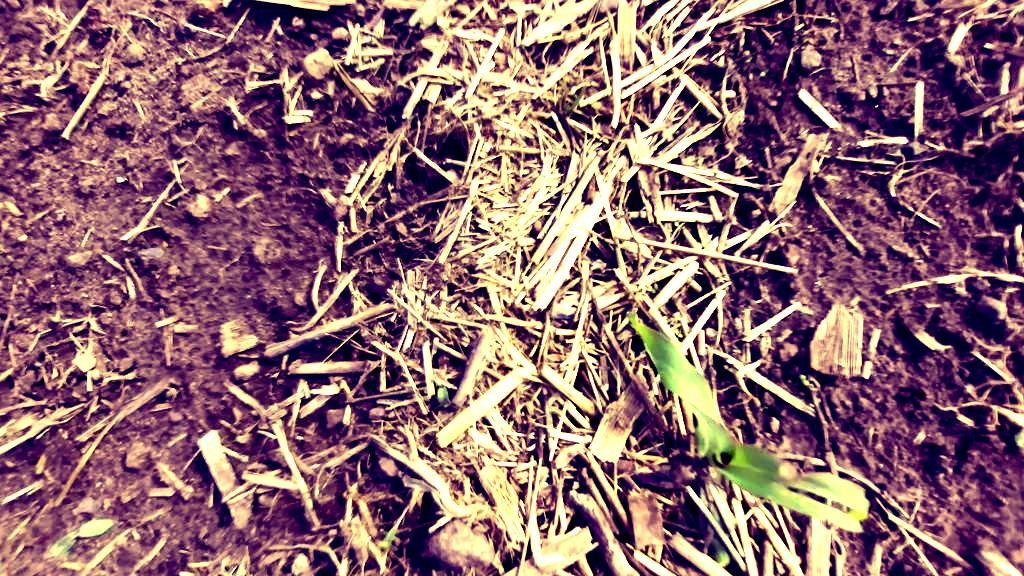BroWeed: (38, 509, 117, 566), (371, 519, 404, 554), (434, 377, 452, 409), (46, 308, 69, 331), (797, 371, 811, 387), (648, 282, 661, 295), (756, 68, 771, 79), (671, 327, 684, 339), (800, 36, 817, 45), (722, 363, 732, 371), (758, 405, 768, 413), (673, 219, 680, 226)
Maize: (581, 305, 885, 569)
NarWeed: (547, 75, 585, 116)
